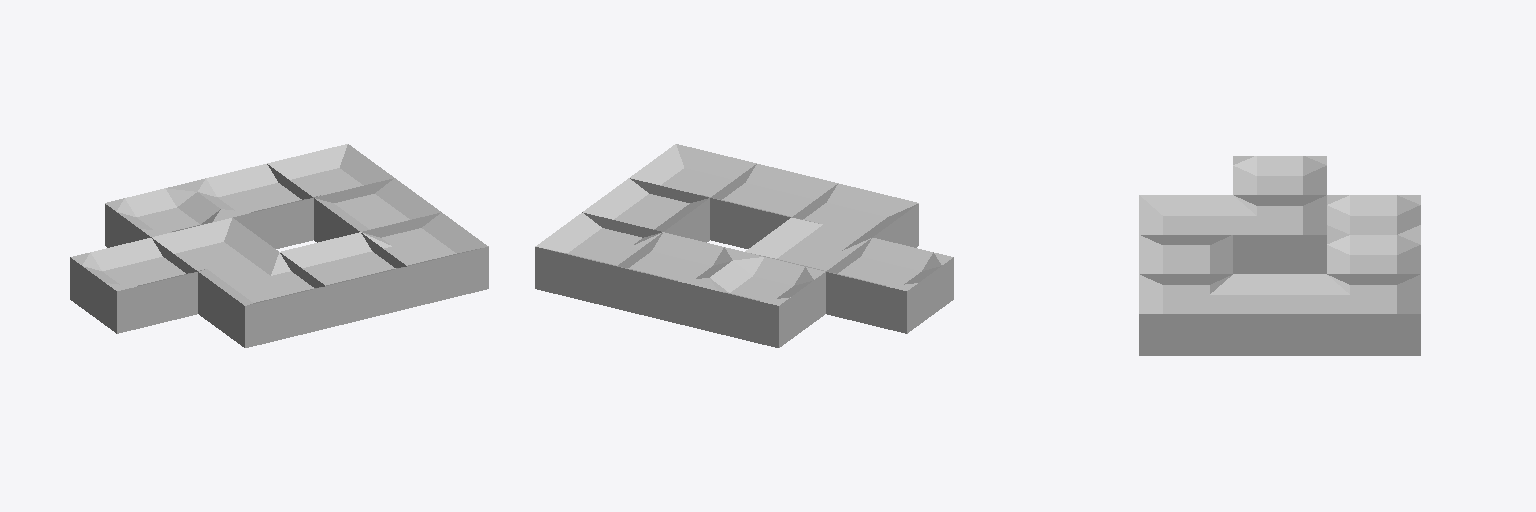
Rendered from 43f_path.obj.
The picture shows the model from 3 angles: view 1: azimuth 30°, elevation 25°; view 2: azimuth 150°, elevation 25°; view 3: azimuth 270°, elevation 25°; orthographic projection.
Parts seen in each view (by area): view 1: foil.ending.1.3_ending.471, foil.corner.2.2_corner.1165, foil.through.3.2_through.247, foil.corner.4.2_corner.1167, foil.ending.3.4_ending.472, foil.through.4.3_through.248, foil.hole.2.4_Cube.237, foil.corner.2.3_corner.1166, foil.corner.4.4_corner.1168; view 2: foil.hole.2.4_Cube.237, foil.ending.1.3_ending.471, foil.corner.4.4_corner.1168, foil.ending.3.4_ending.472, foil.through.3.2_through.247, foil.corner.2.2_corner.1165, foil.through.4.3_through.248, foil.corner.4.2_corner.1167, foil.corner.2.3_corner.1166; view 3: foil.through.4.3_through.248, foil.corner.4.4_corner.1168, foil.corner.2.3_corner.1166, foil.corner.4.2_corner.1167, foil.corner.2.2_corner.1165, foil.through.3.2_through.247, foil.hole.2.4_Cube.237, foil.ending.1.3_ending.471, foil.ending.3.4_ending.472.
Part boxes in pixels (left/top/right/bottom): foil.ending.1.3_ending.471: left=70, top=238, right=197, bottom=333; foil.corner.2.2_corner.1165: left=198, top=252, right=325, bottom=347; foil.through.3.2_through.247: left=280, top=232, right=406, bottom=328; foil.corner.4.2_corner.1167: left=361, top=213, right=488, bottom=308; foil.ending.3.4_ending.472: left=186, top=164, right=313, bottom=248; foil.through.4.3_through.248: left=314, top=178, right=441, bottom=242; foil.hole.2.4_Cube.237: left=105, top=183, right=231, bottom=247; foil.corner.2.3_corner.1166: left=151, top=218, right=278, bottom=276; foil.corner.4.4_corner.1168: left=267, top=144, right=393, bottom=199; foil.hole.2.4_Cube.237: left=698, top=252, right=825, bottom=347; foil.ending.1.3_ending.471: left=826, top=238, right=953, bottom=333; foil.corner.4.4_corner.1168: left=535, top=213, right=662, bottom=308; foil.ending.3.4_ending.472: left=617, top=232, right=743, bottom=328; foil.through.3.2_through.247: left=710, top=164, right=837, bottom=248; foil.corner.2.2_corner.1165: left=792, top=183, right=918, bottom=247; foil.through.4.3_through.248: left=582, top=178, right=709, bottom=242; foil.corner.4.2_corner.1167: left=630, top=144, right=756, bottom=198; foil.corner.2.3_corner.1166: left=745, top=218, right=872, bottom=273; foil.through.4.3_through.248: left=1233, top=274, right=1326, bottom=355; foil.corner.4.4_corner.1168: left=1327, top=274, right=1420, bottom=355; foil.corner.2.3_corner.1166: left=1233, top=195, right=1326, bottom=273; foil.corner.4.2_corner.1167: left=1139, top=274, right=1232, bottom=355; foil.corner.2.2_corner.1165: left=1139, top=195, right=1232, bottom=244; foil.through.3.2_through.247: left=1139, top=235, right=1232, bottom=284; foil.hole.2.4_Cube.237: left=1327, top=195, right=1420, bottom=234; foil.ending.1.3_ending.471: left=1233, top=156, right=1326, bottom=194; foil.ending.3.4_ending.472: left=1327, top=235, right=1420, bottom=273.
Size of the model in its own units: 8 by 1 by 6.